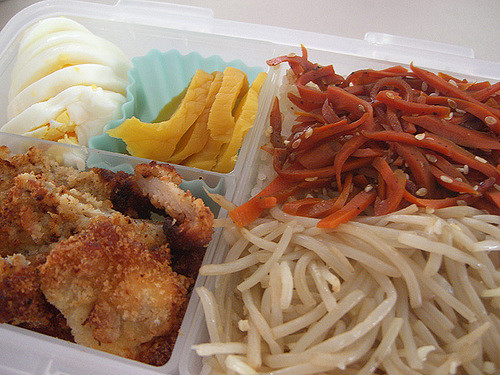fried egg: (46, 22, 101, 138)
plain spaghetti: (268, 232, 486, 362)
